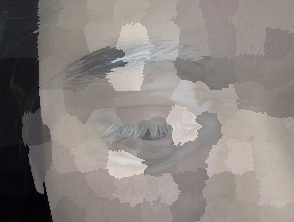vitiligo: (72, 17, 255, 201)
